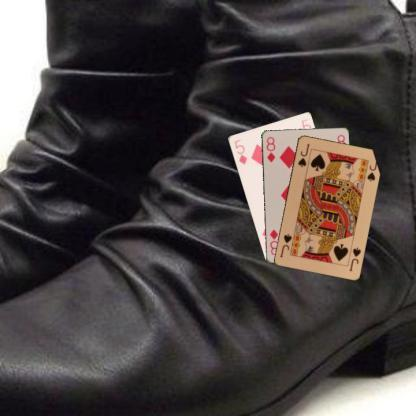5d: (232, 137, 248, 166)
8d: (264, 134, 276, 164)
Js: (295, 141, 311, 168), (346, 245, 362, 272)
